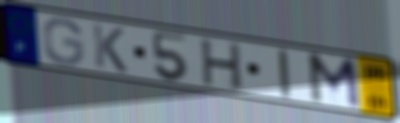5: (149, 28, 191, 83)
G: (41, 16, 86, 67)
H: (200, 38, 244, 93)
I: (274, 47, 294, 101)
K: (90, 21, 130, 75)
M: (304, 51, 364, 112)
